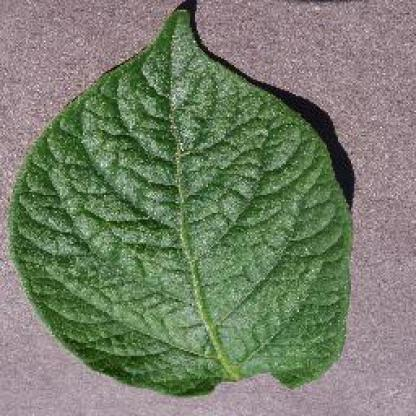good leaf: (48, 43, 341, 355)
